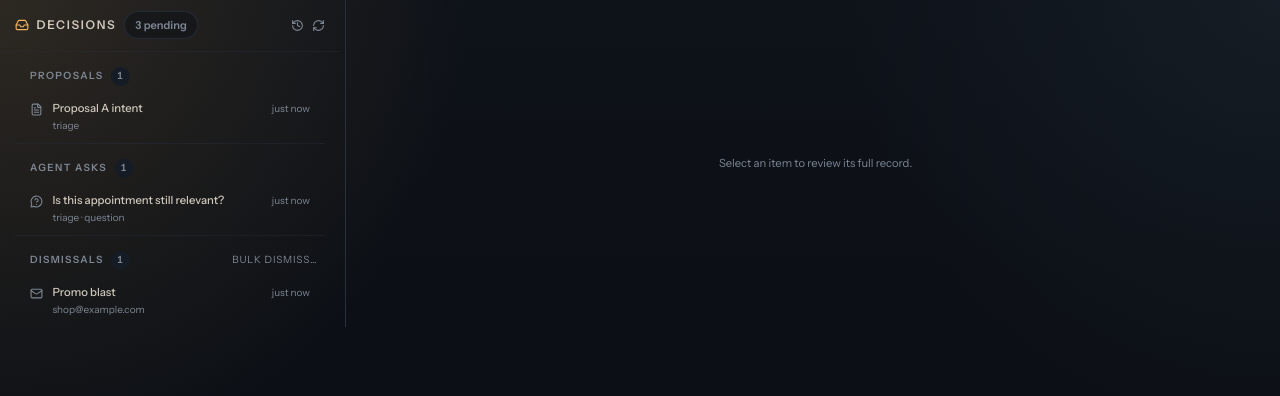
selection survives the world changing underneath it › keeps the reviewed proposal selected when another proposal arrives
What coordinates should you click on to do the following:
click the text "Proposal A intent"
I would click on:
 (98, 108)
Its box is left=52, top=101, right=143, bottom=115.
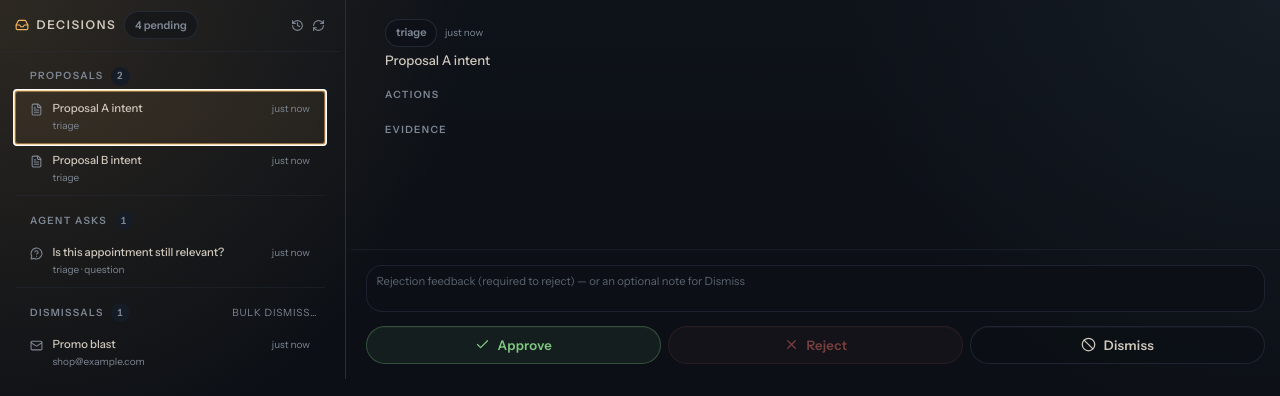
Expected: the text "Proposal B intent" is shown, left=52, top=153, right=142, bottom=167
Expected: the button "Approve" is shown, left=366, top=326, right=661, bottom=364
Expected: the text "Select an item to review its full record." is gone
